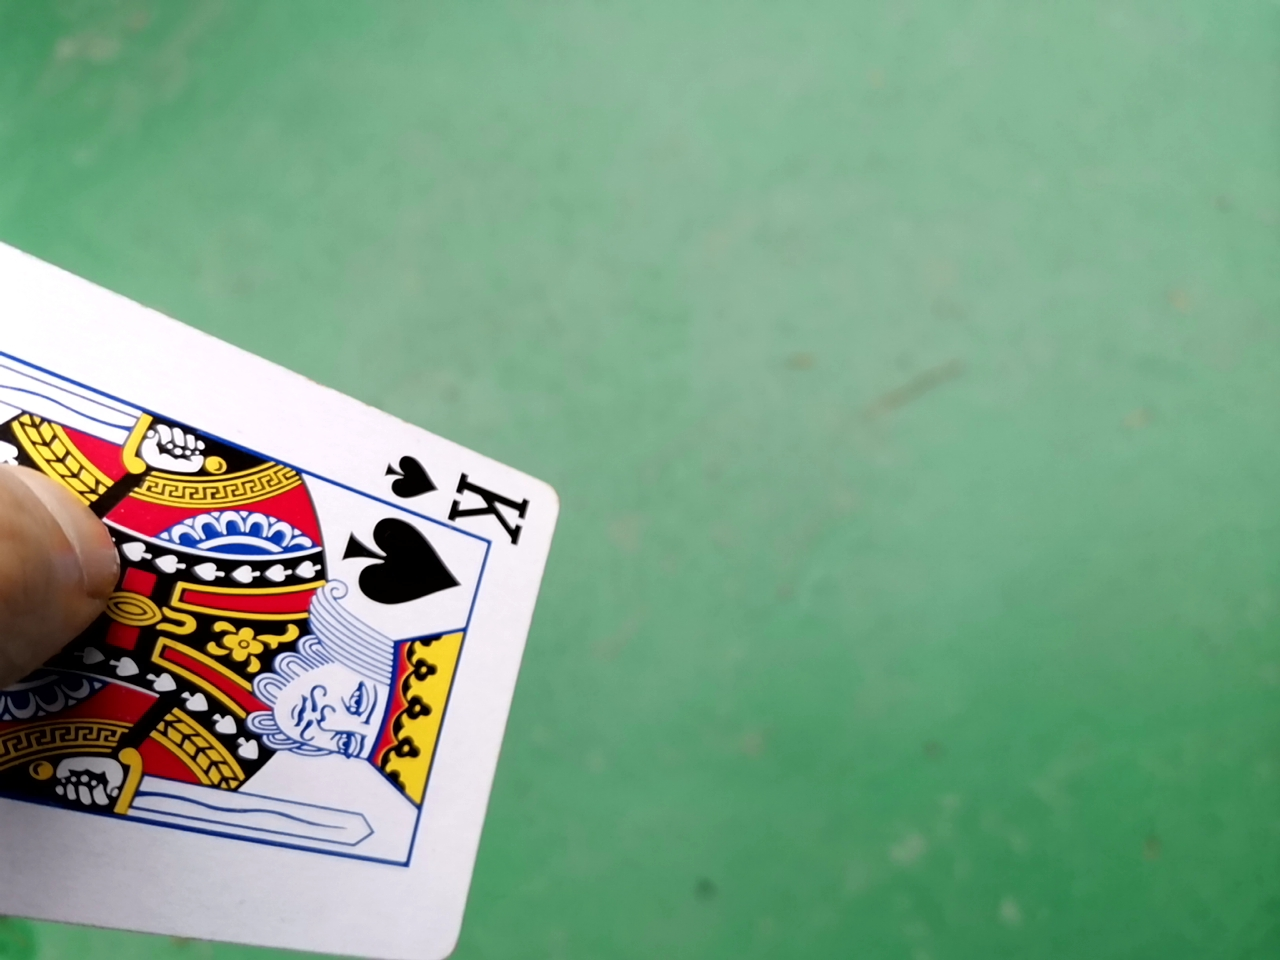ht k: (4, 179, 556, 950)
